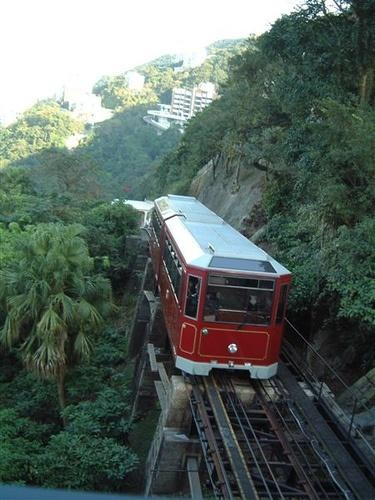train: (149, 195, 293, 380)
